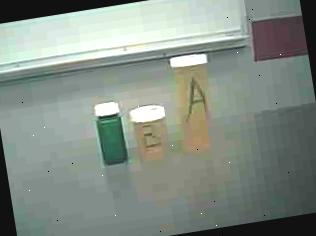Bottle A: (166, 49, 221, 159)
Bottle B: (128, 100, 176, 166)
Bottle C: (89, 98, 132, 171)
